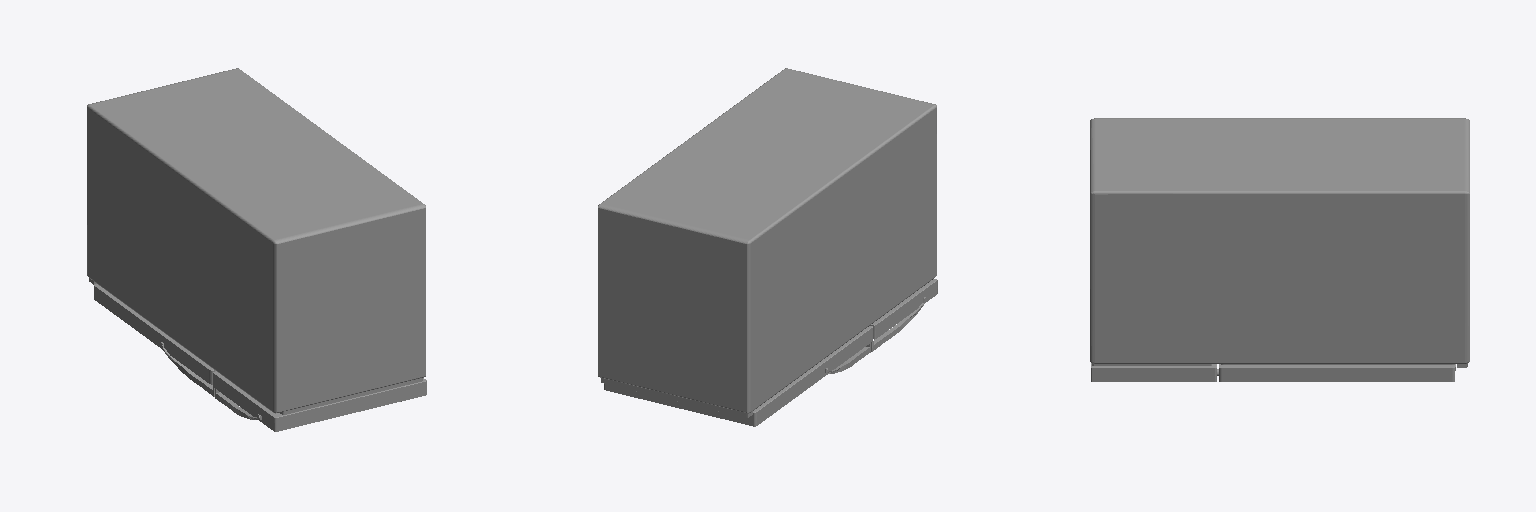
Rendered from office_fridge.obj.
3 renders of one model, left to right at view 1: azimuth 30°, elevation 25°; view 2: azimuth 150°, elevation 25°; view 3: azimuth 270°, elevation 25°, orthographic.
Visible parts, largest first — view 1: Cube.000; view 2: Cube.000; view 3: Cube.000.
Boxes of the visible parts, x1=… form: Cube.000: x1=87, y1=68, x2=426, y2=431; Cube.000: x1=598, y1=68, x2=937, y2=426; Cube.000: x1=1090, y1=118, x2=1469, y2=381.
Bounding box in the file's own units: 203 × 254 × 430.